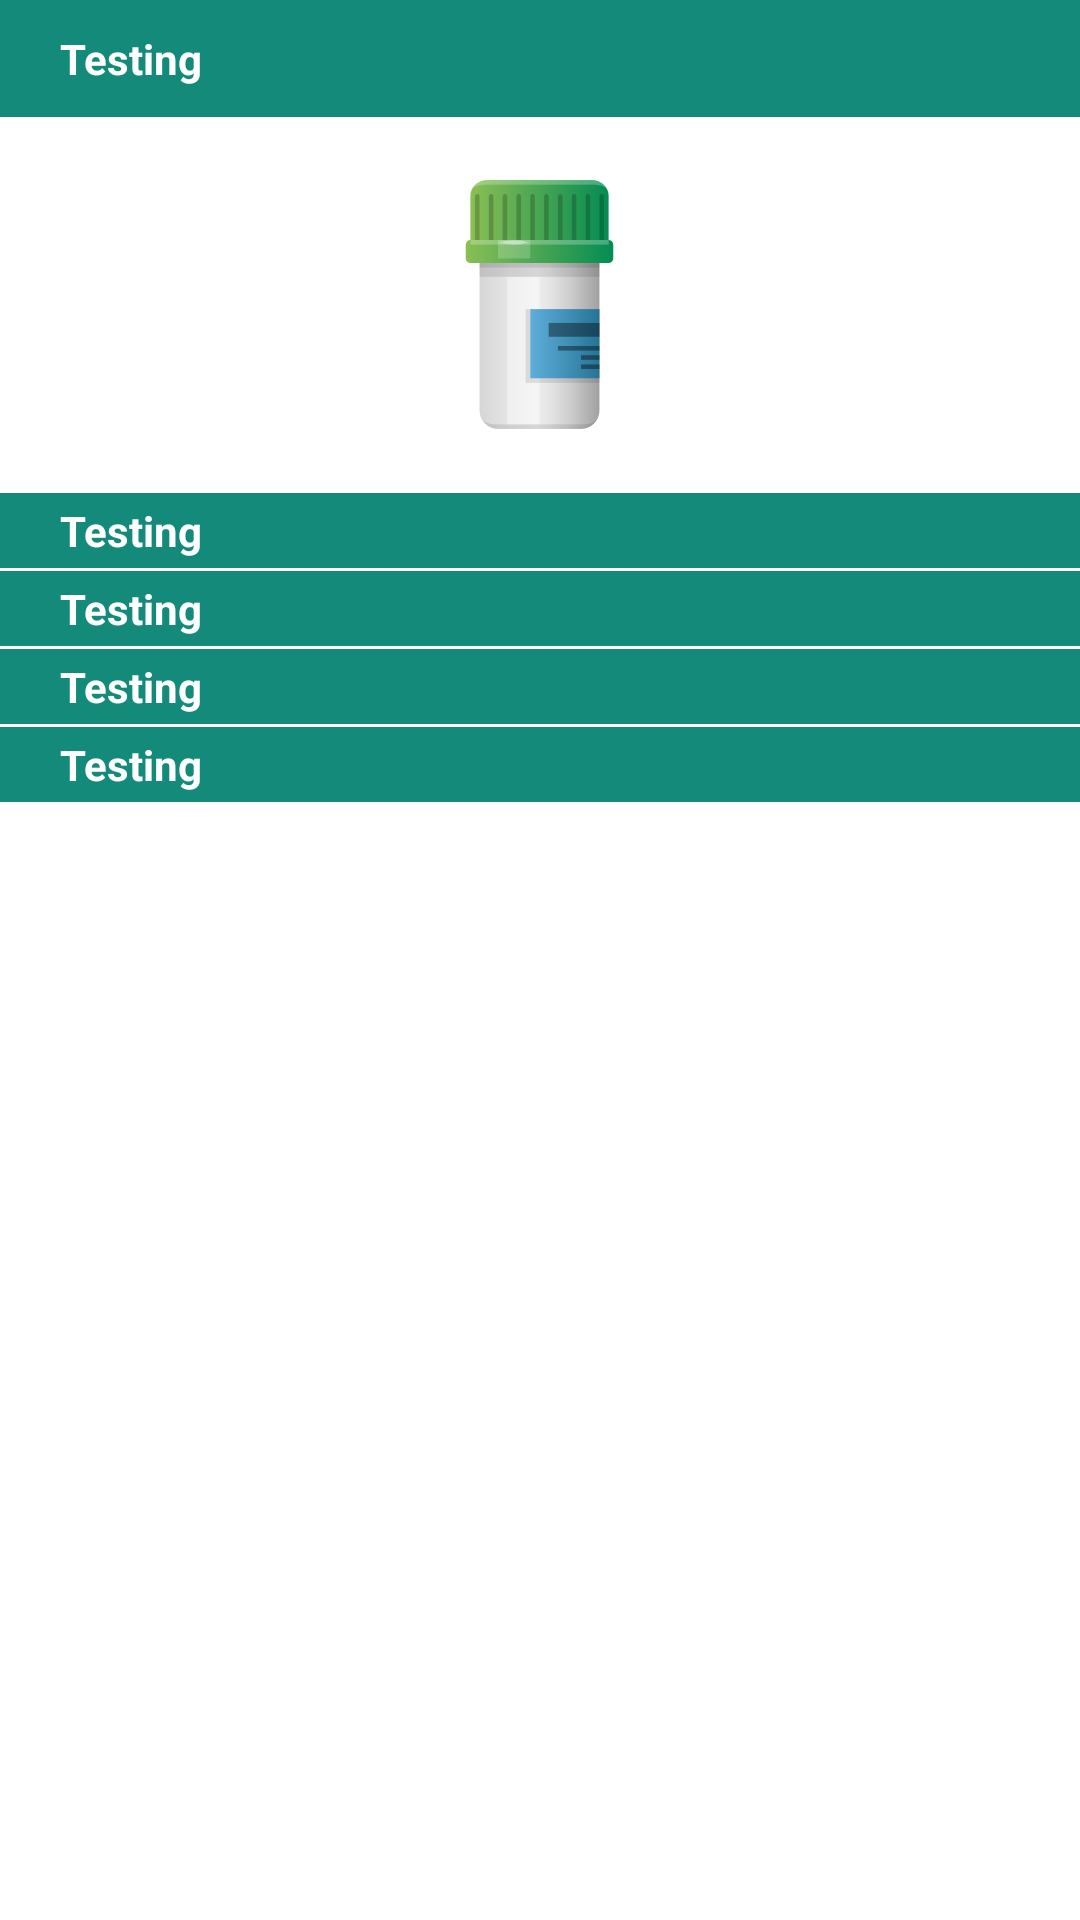

Icons on this 1080*1920 Android screen, each with its box as (x1, y1, x2, y2):
detalle frasco medicina verde: (465, 180, 614, 429)
